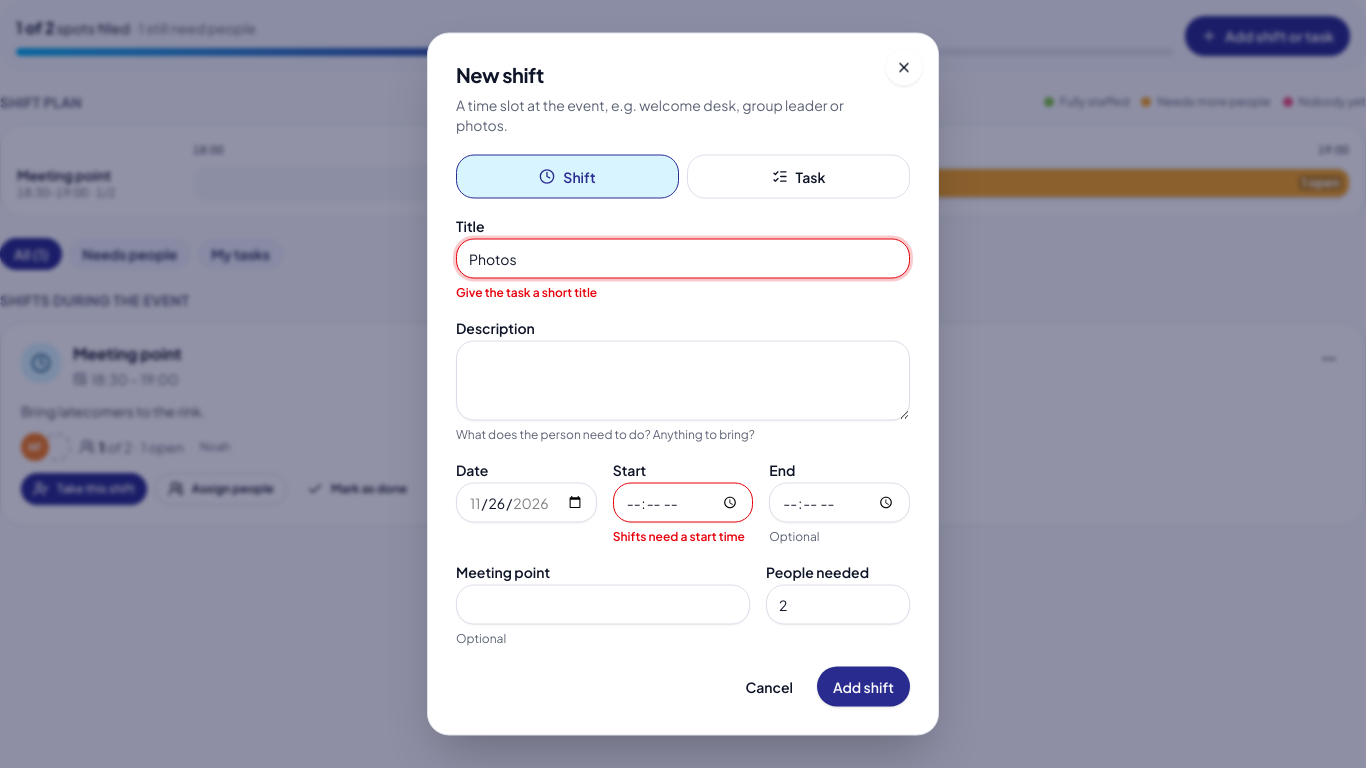
ShiftsAndTasks › lets an organiser create a shift with validation and assign people
Earlier steps of the test are not shown.
Type "Take photos for Instagram" into the text box labelled "Description" at (683, 380), box [456, 340, 910, 420]
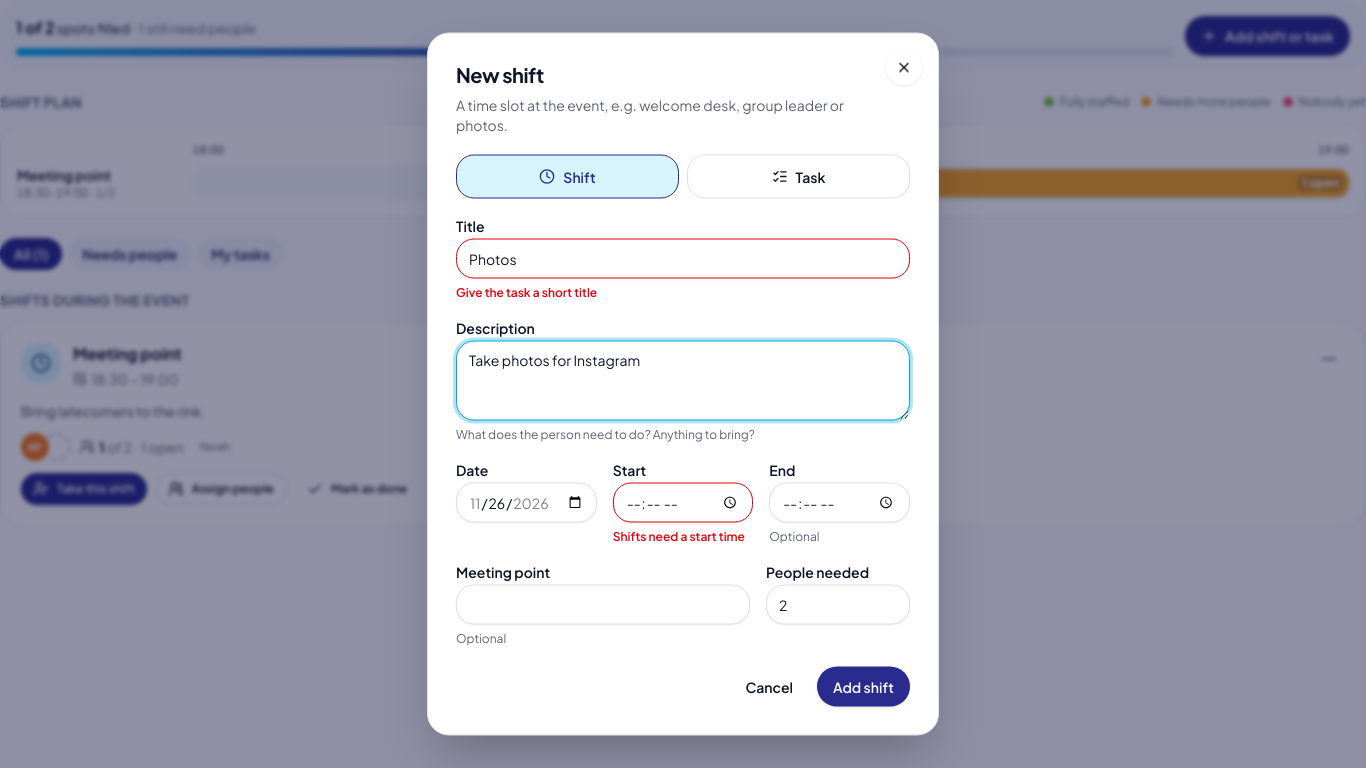
Type "19:00" into the time field labelled "Start" at (683, 502), box [613, 482, 753, 522]
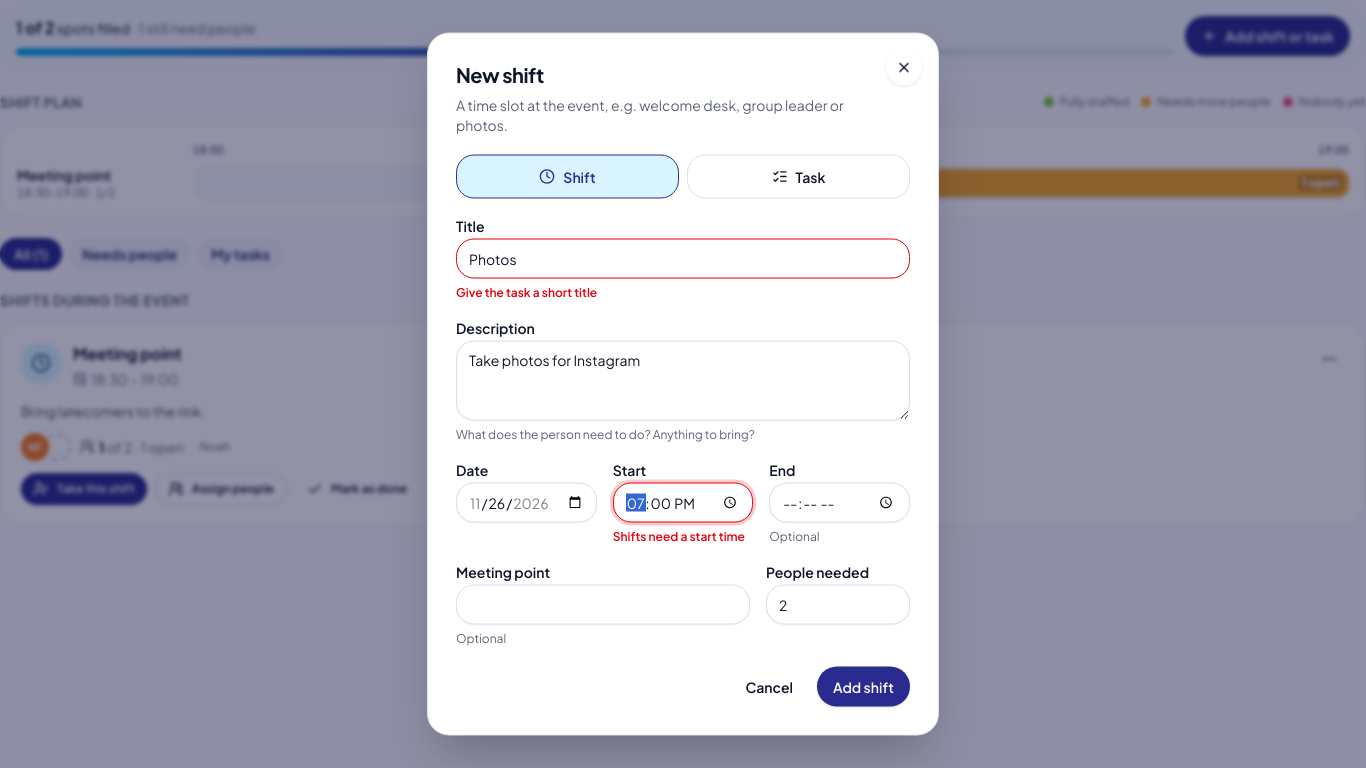
Replace the text in the number field labelled "People needed" with "1" at (838, 604), box [766, 584, 910, 624]
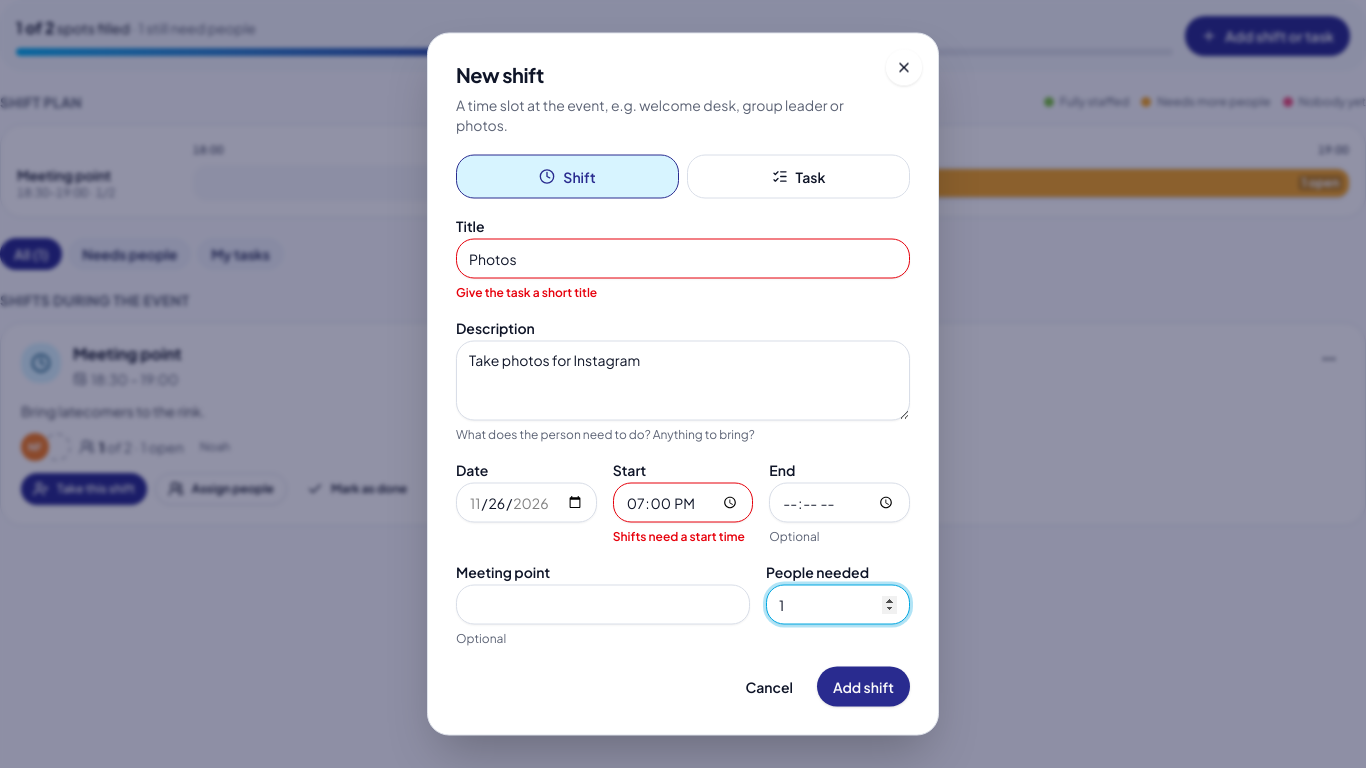
Click the button "Add shift" at (864, 686), box [817, 666, 910, 706]
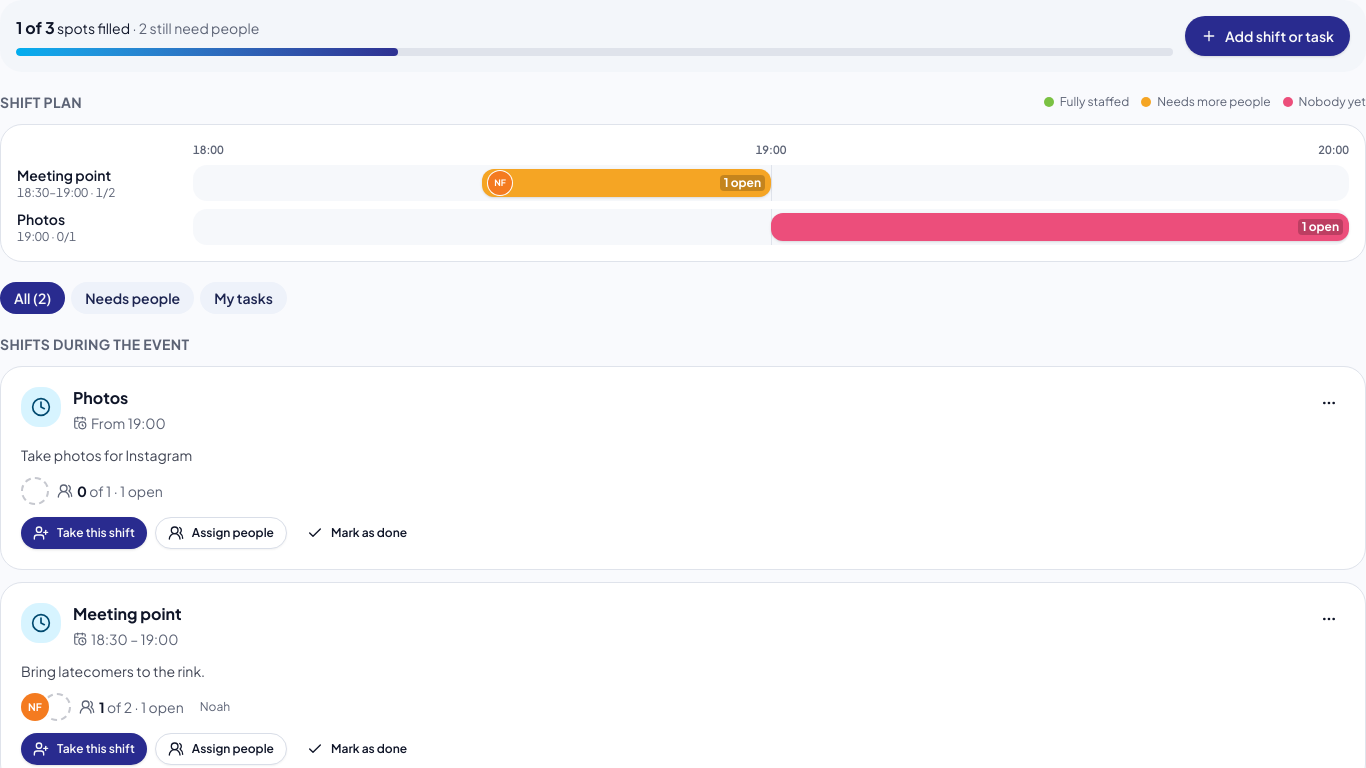
Check: the element "Photos" shows "0 of 1 · 1 open", box [0, 366, 1365, 570]
Click the button "Assign people" below "Take photos for Instagram" at (221, 533), box [155, 517, 287, 549]
(page scrolled)
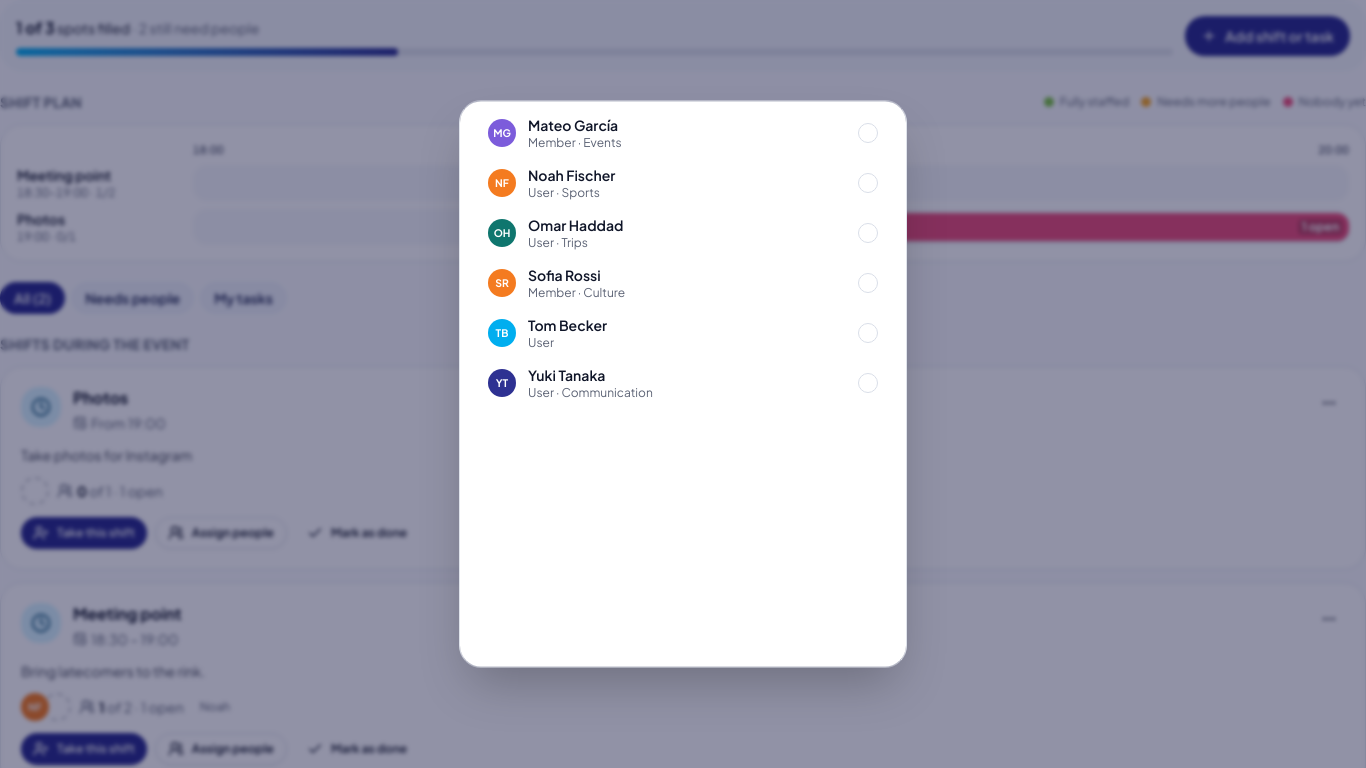
Click the checkbox labelled "YT Yuki Tanaka User · Communication" at (567, 376), box [480, 360, 886, 408]
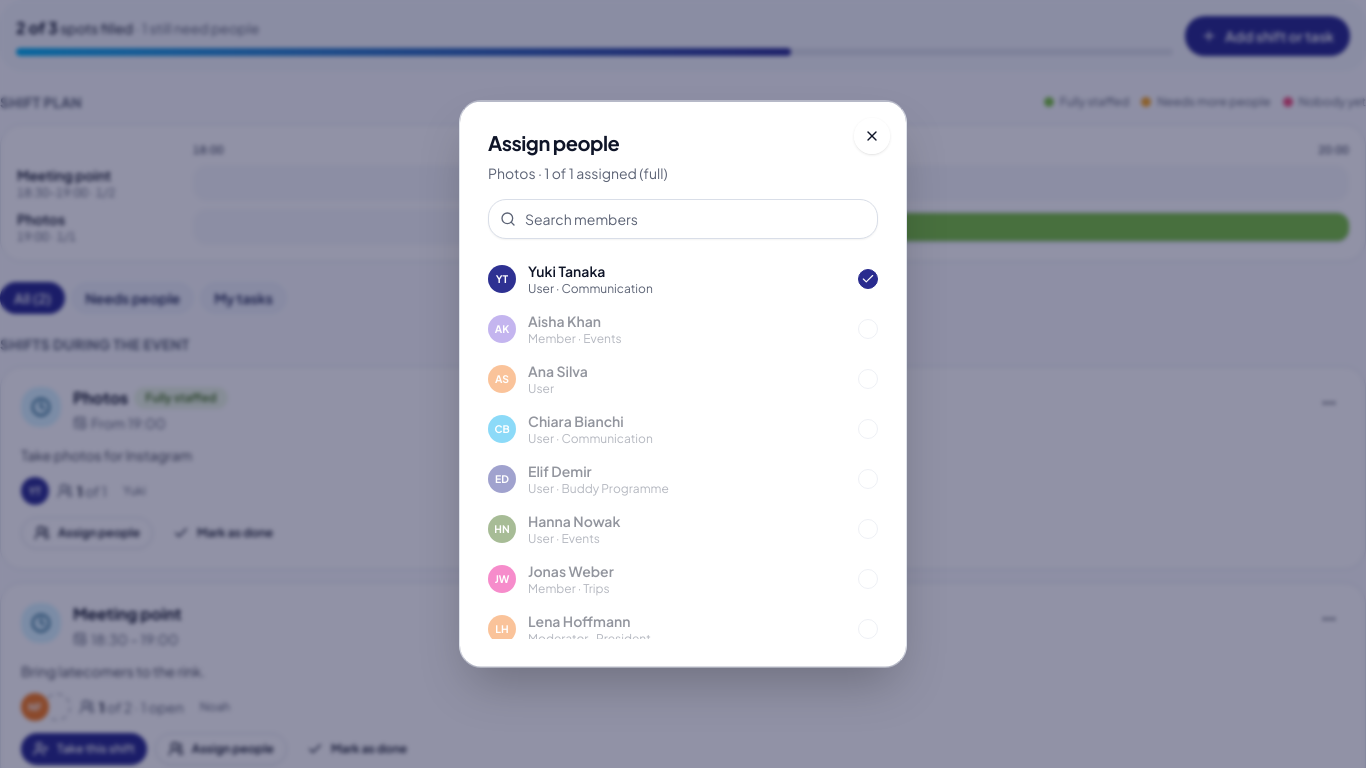
Check: the checkbox labelled "ED Elif Demir User · Buddy Programme" is disabled, box [480, 454, 886, 502]
